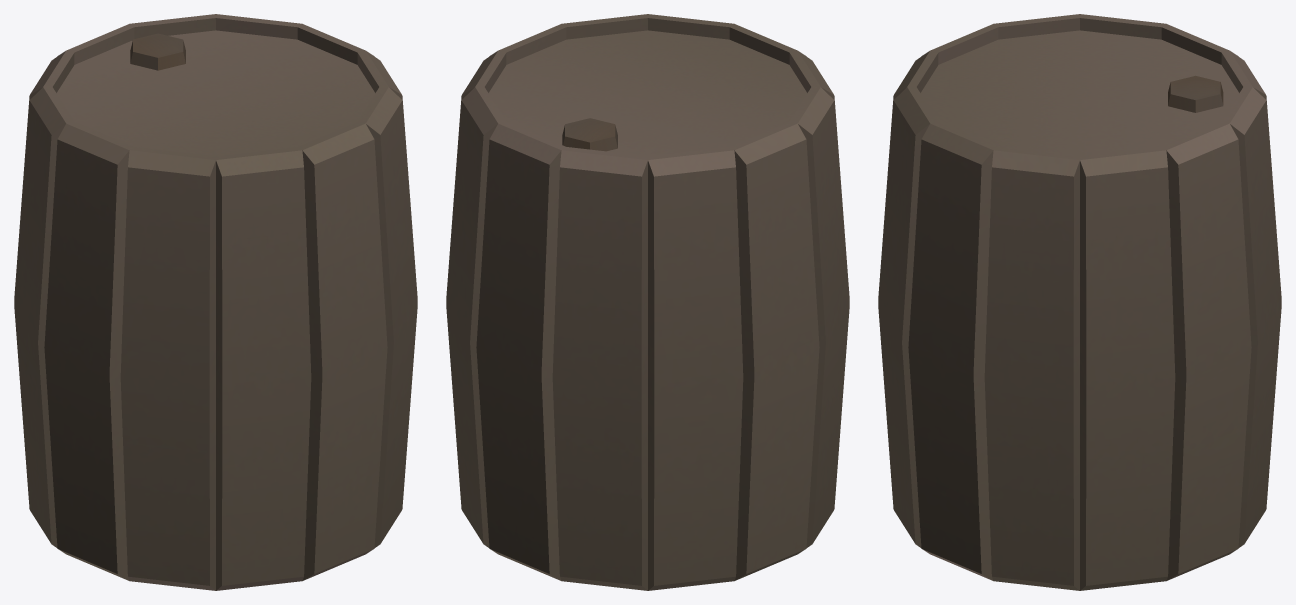
The model's file is Barrel_1.fbx.
3 renders of one model, left to right at view 1: azimuth 30°, elevation 25°; view 2: azimuth 150°, elevation 25°; view 3: azimuth 270°, elevation 25°, orthographic.
Visible parts, largest first — view 1: pCylinder167; view 2: pCylinder167; view 3: pCylinder167.
Part boxes in pixels (x1,y1,x2,y2): pCylinder167: (14, 14, 417, 590); pCylinder167: (446, 14, 849, 590); pCylinder167: (878, 14, 1281, 590).
Size of the model in its own units: 74.71 by 88.28 by 74.71.
